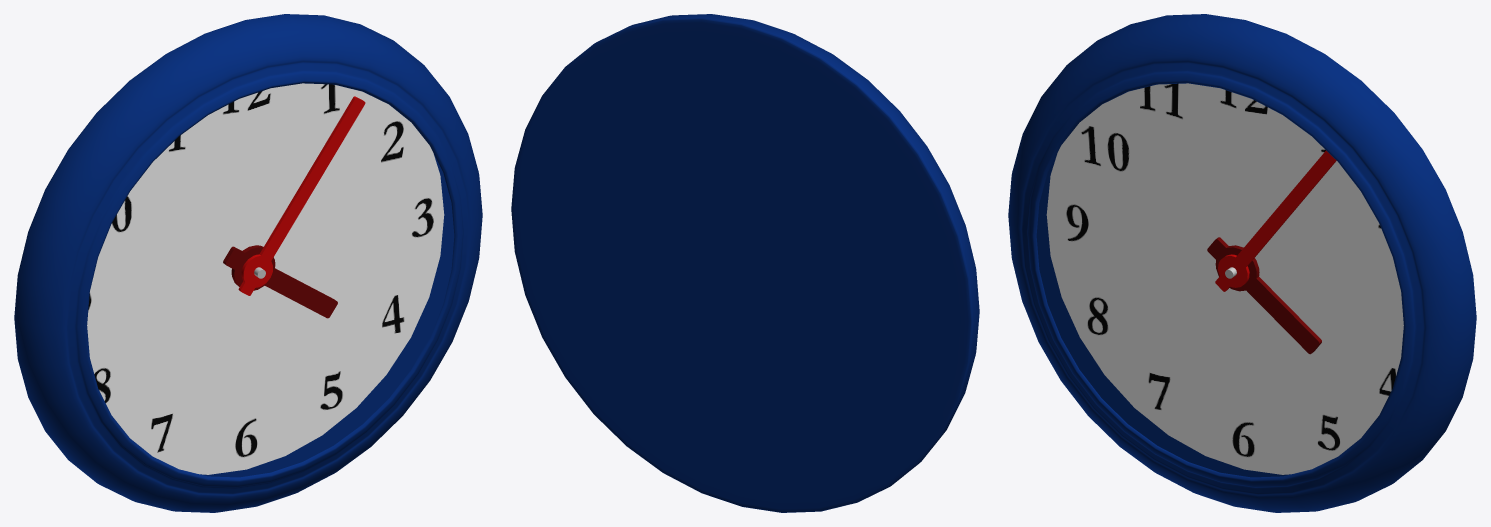
Rendered from Wall Clock.obj.
The picture shows the model from 3 angles, left to right: view 1: azimuth 30°, elevation 25°; view 2: azimuth 150°, elevation 25°; view 3: azimuth 330°, elevation 25°; orthographic projection.
Parts seen in each view (by area): view 1: Wall_Clock:Mesh; view 2: Wall_Clock:Mesh; view 3: Wall_Clock:Mesh.
Boxes of the visible parts, bbox=[...] form: Wall_Clock:Mesh: bbox=[14, 14, 482, 512]; Wall_Clock:Mesh: bbox=[511, 14, 979, 512]; Wall_Clock:Mesh: bbox=[1008, 14, 1476, 512].
Size of the model in its own units: 30.26 by 30.27 by 3.13.
Materials: 5 (2 with a texture image).
